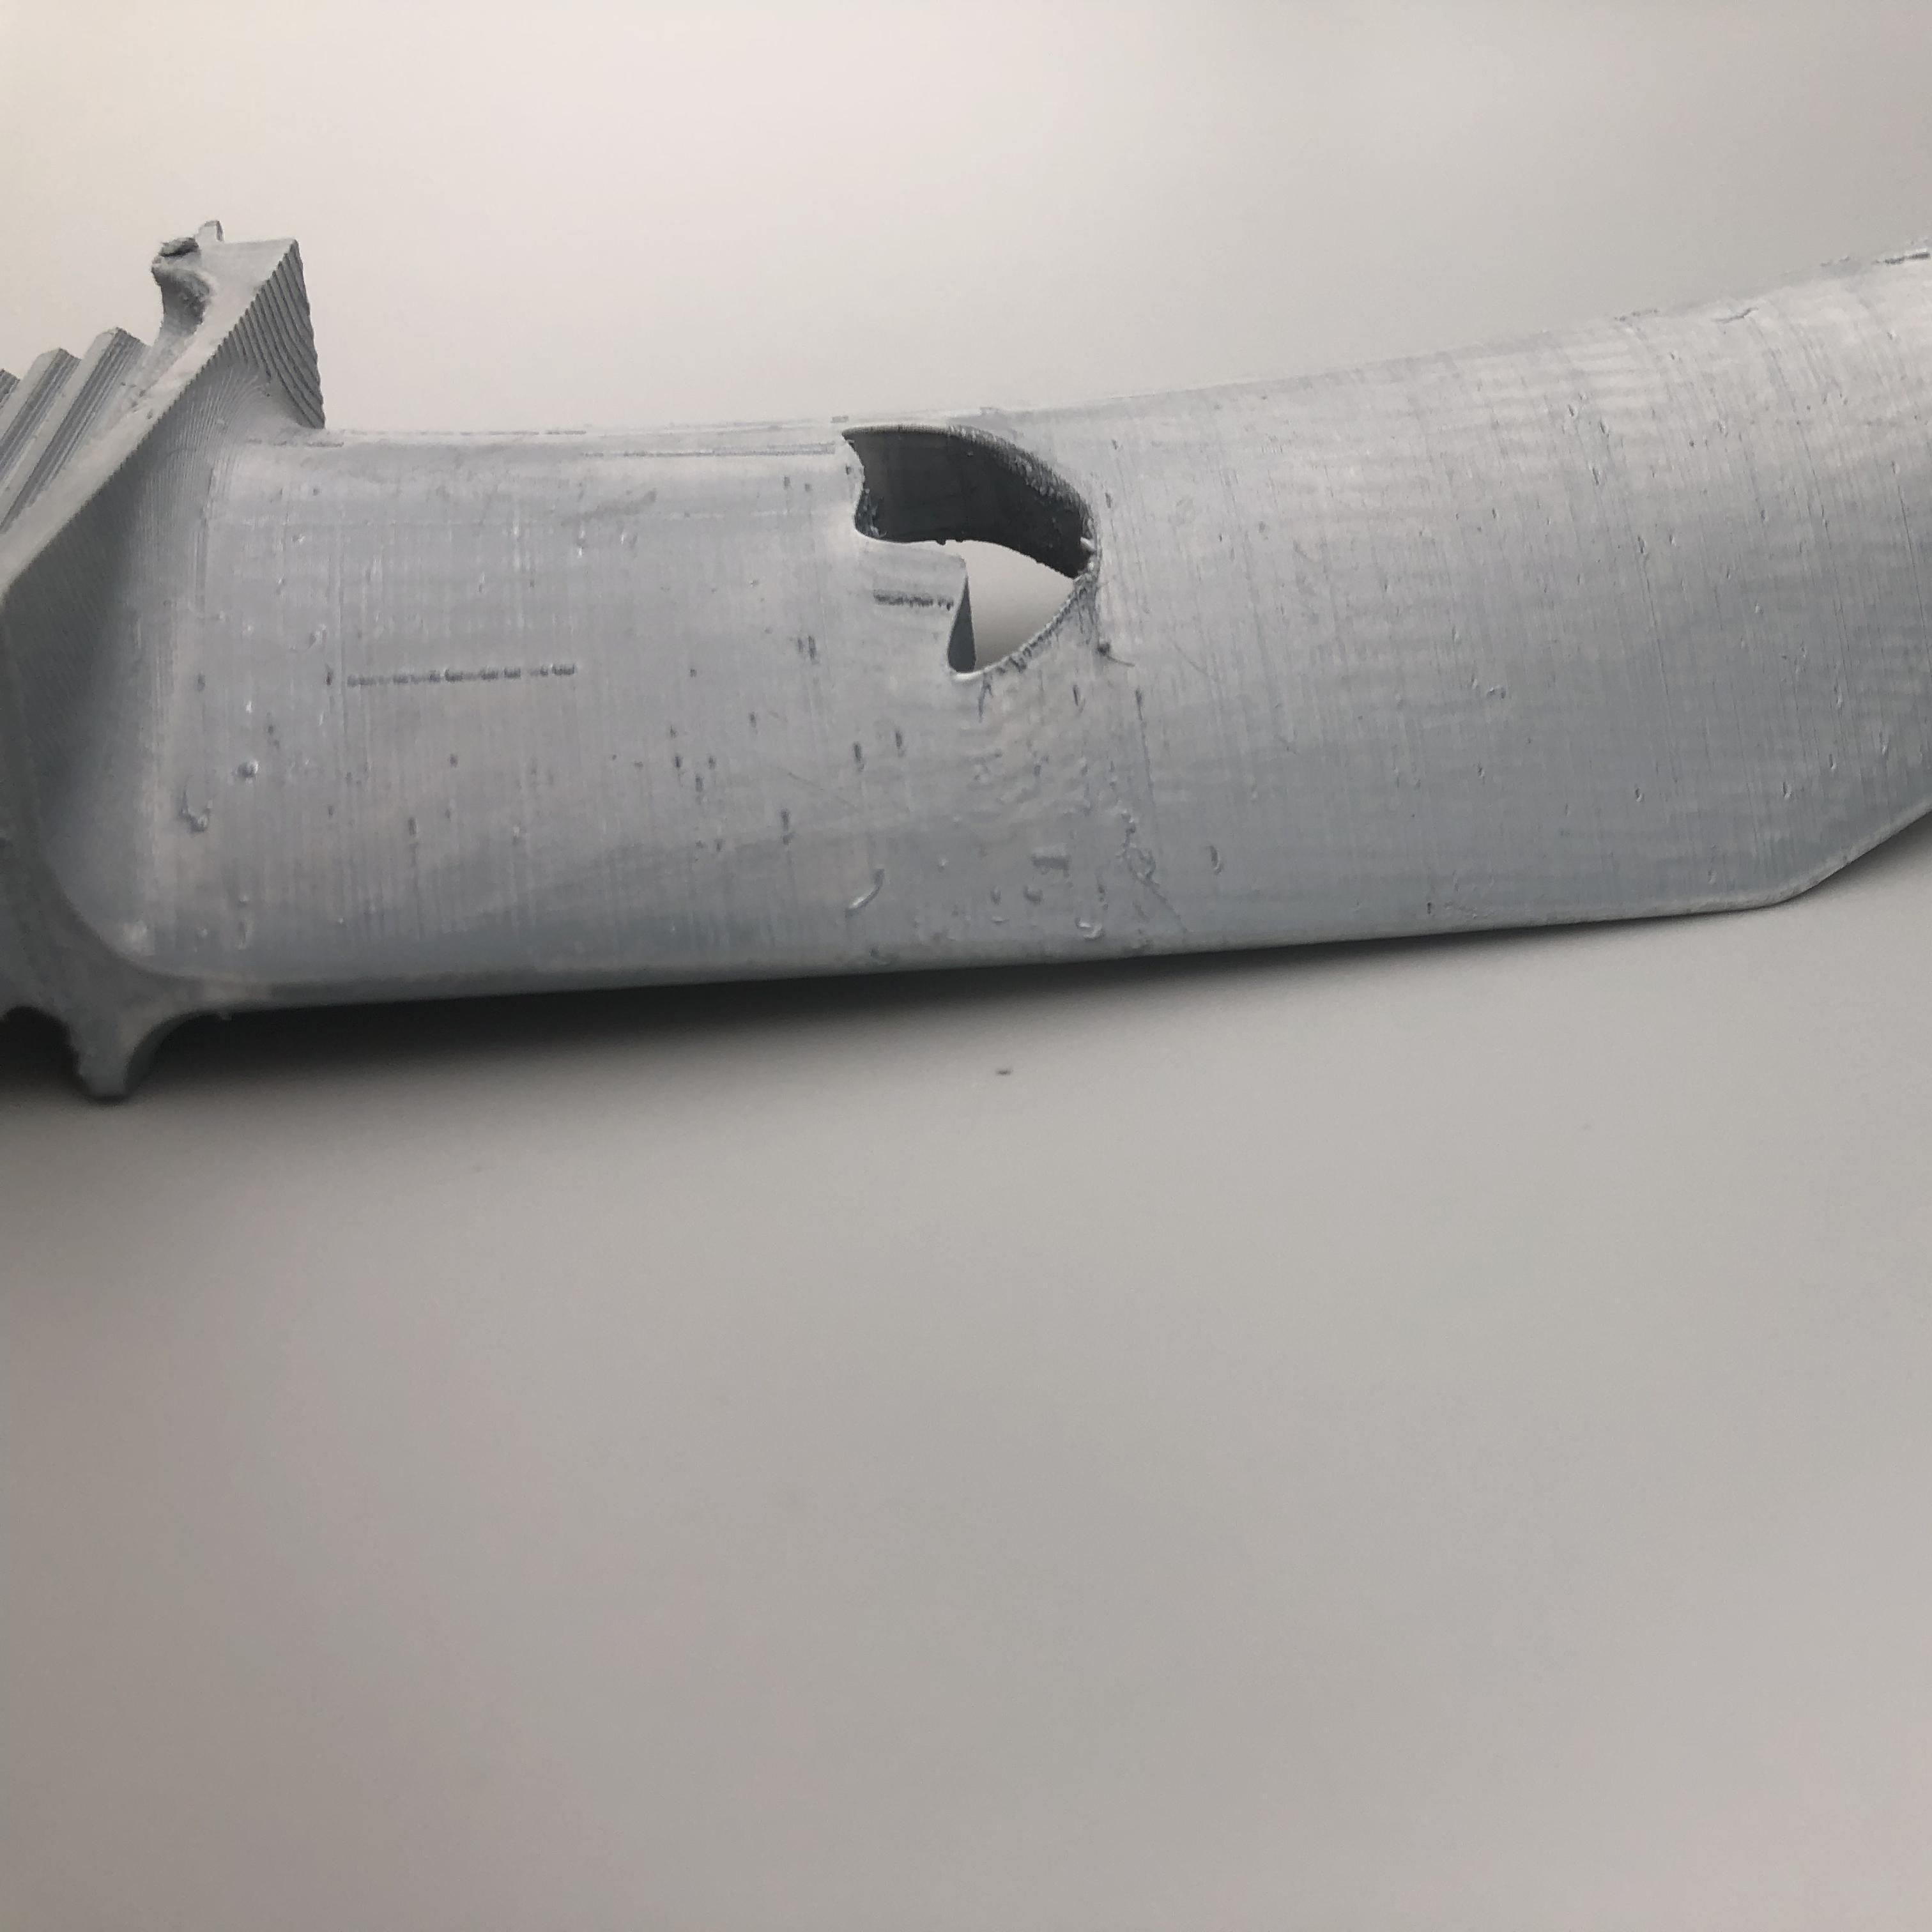breakdown: (821, 425, 1127, 681)
